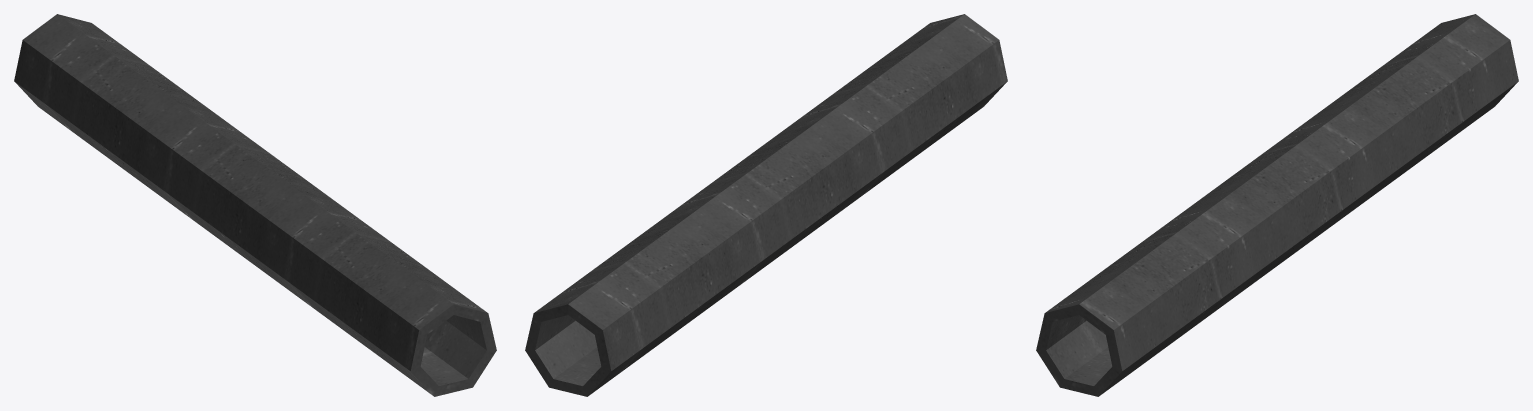
The model's file is pipe.fbx.
The picture shows the model from 3 angles, left to right: view 1: azimuth 30°, elevation 25°; view 2: azimuth 150°, elevation 25°; view 3: azimuth 330°, elevation 25°; orthographic projection.
Parts seen in each view (by area): view 1: Cylinder; view 2: Cylinder; view 3: Cylinder.
Part boxes in pixels (bbox=[...]): Cylinder: bbox=[14, 14, 496, 396]; Cylinder: bbox=[525, 14, 1007, 396]; Cylinder: bbox=[1036, 14, 1518, 396].
Bounding box in the file's own units: 315 × 307 × 2511.
